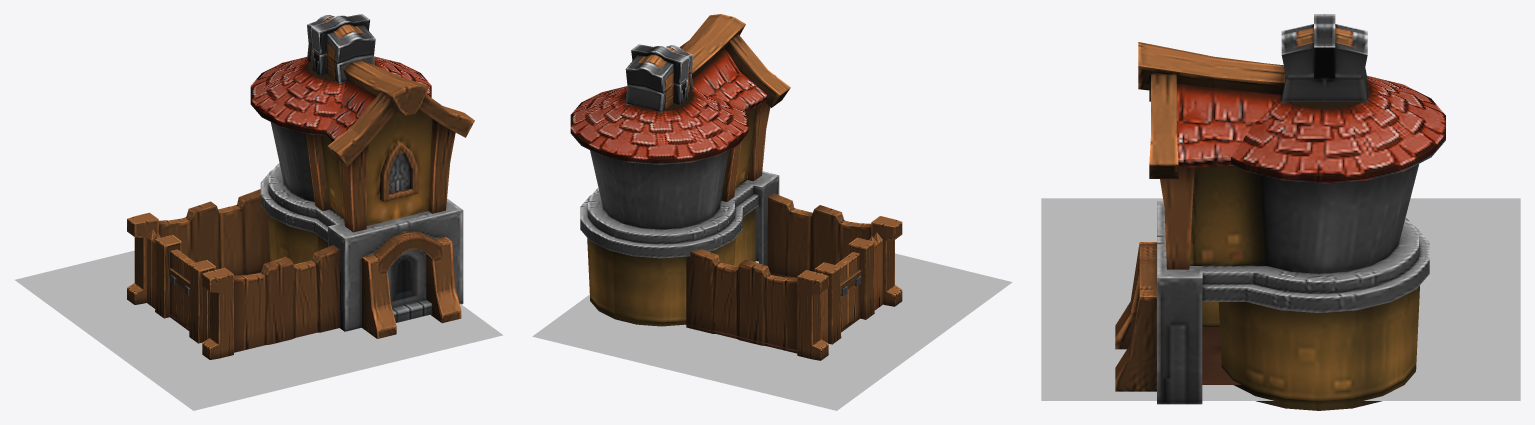
Rendered from C_Treasury_LV1.fbx.
3 renders of one model, left to right at view 1: azimuth 30°, elevation 25°; view 2: azimuth 150°, elevation 25°; view 3: azimuth 270°, elevation 25°, orthographic. The views are drawn at different scales.
Parts seen in each view (by area): view 1: Teasury_LV01_0_mesh, Teasury_LV01_1_mesh; view 2: Teasury_LV01_0_mesh, Teasury_LV01_1_mesh; view 3: Teasury_LV01_0_mesh, Teasury_LV01_1_mesh.
Boxes of the visible parts, x1,y1,x2,y2 form: Teasury_LV01_0_mesh: (127,14,474,359); Teasury_LV01_1_mesh: (15,250,502,410); Teasury_LV01_0_mesh: (570,14,902,360); Teasury_LV01_1_mesh: (532,253,1012,410); Teasury_LV01_0_mesh: (1115,14,1445,410); Teasury_LV01_1_mesh: (1041,198,1520,400).
Size of the model in its own units: 129 by 95.02 by 120.
